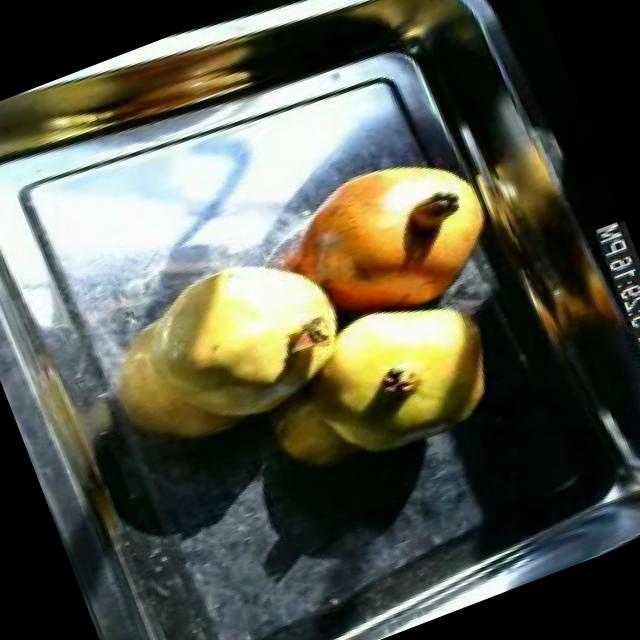fruit: (120, 224, 374, 452), (271, 128, 516, 348)
